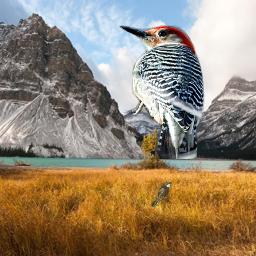Cuckoo: (151, 182, 172, 207)
Woodpecker: (114, 18, 209, 159)
